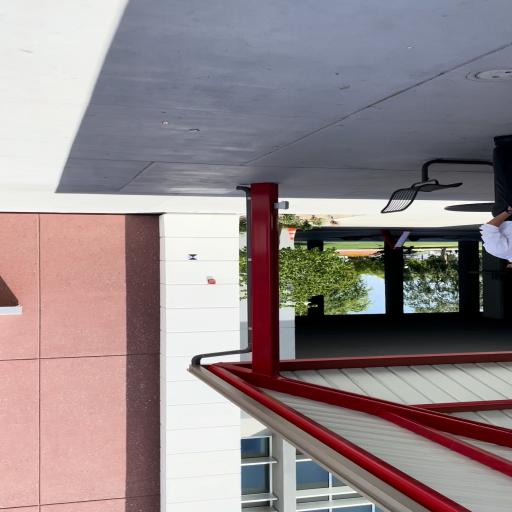target2: (187, 254, 198, 260)
